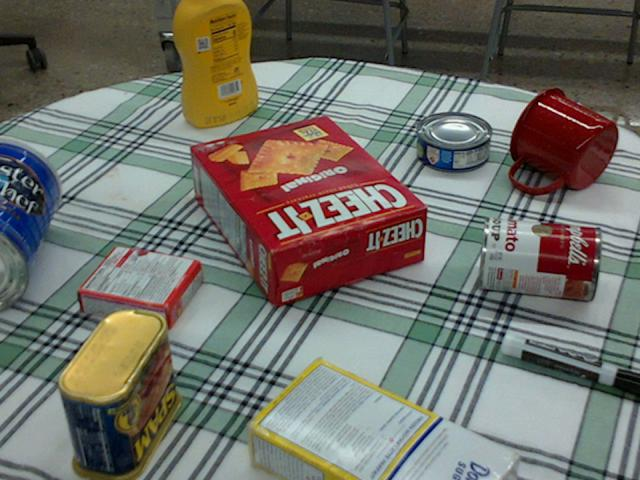cracker_box: (189, 114, 424, 305)
gelatin_box: (78, 243, 201, 330)
large_marker: (502, 332, 639, 399)
master_chef_can: (0, 138, 58, 310)
mug: (509, 87, 616, 194)
mustard_bottle: (173, 0, 257, 127)
potted_meat_can: (56, 307, 179, 479)
sugar_box: (240, 361, 518, 479)
tomato_soup_can: (477, 216, 601, 301)
tuna_fish_can: (417, 112, 492, 171)
